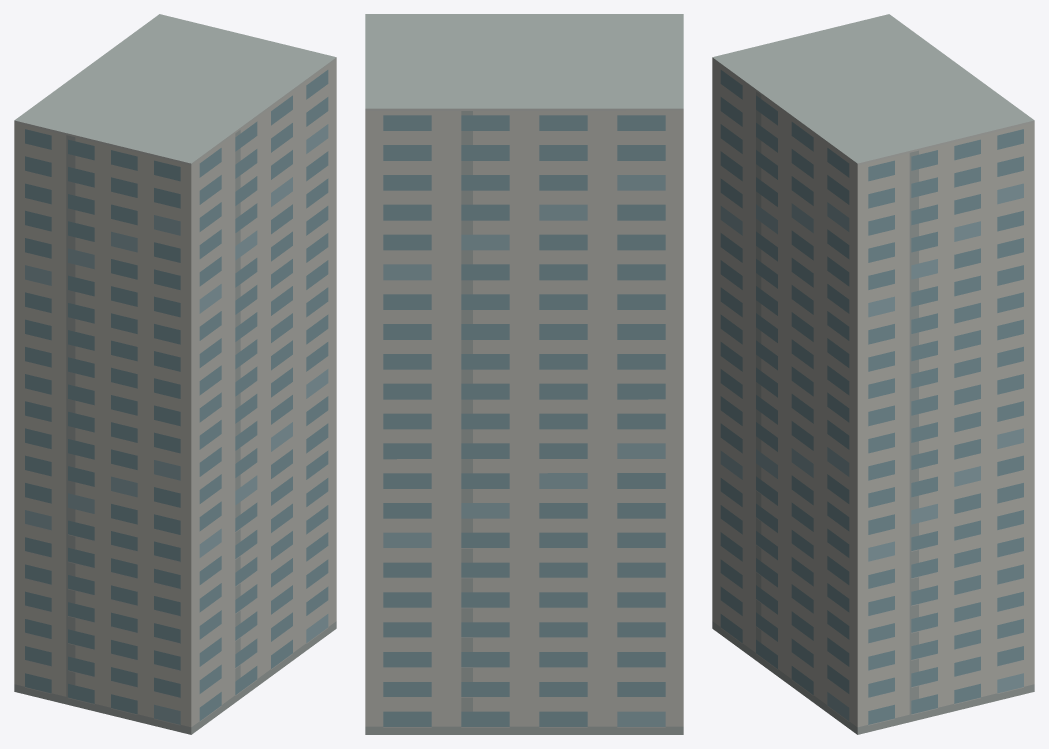
Rendered from residential-0c91cdbc-d666-41cf-af5a-07e615bd1c85.glb.
3 views of the same model, side by side, from view 1: azimuth 30°, elevation 25°; view 2: azimuth 150°, elevation 25°; view 3: azimuth 270°, elevation 25° (orthographic). The views are drawn at different scales.
Parts seen in each view (by area): view 1: residential-0c91cdbc-d666-41cf-af5a-07e615bd1c85.tmp; view 2: residential-0c91cdbc-d666-41cf-af5a-07e615bd1c85.tmp; view 3: residential-0c91cdbc-d666-41cf-af5a-07e615bd1c85.tmp.
Boxes of the visible parts, x1,y1,x2,y2 form: residential-0c91cdbc-d666-41cf-af5a-07e615bd1c85.tmp: (14,14,336,734); residential-0c91cdbc-d666-41cf-af5a-07e615bd1c85.tmp: (365,14,683,734); residential-0c91cdbc-d666-41cf-af5a-07e615bd1c85.tmp: (712,14,1034,734).
Bounding box in the file's own units: 40.44 × 72 × 36.83.
